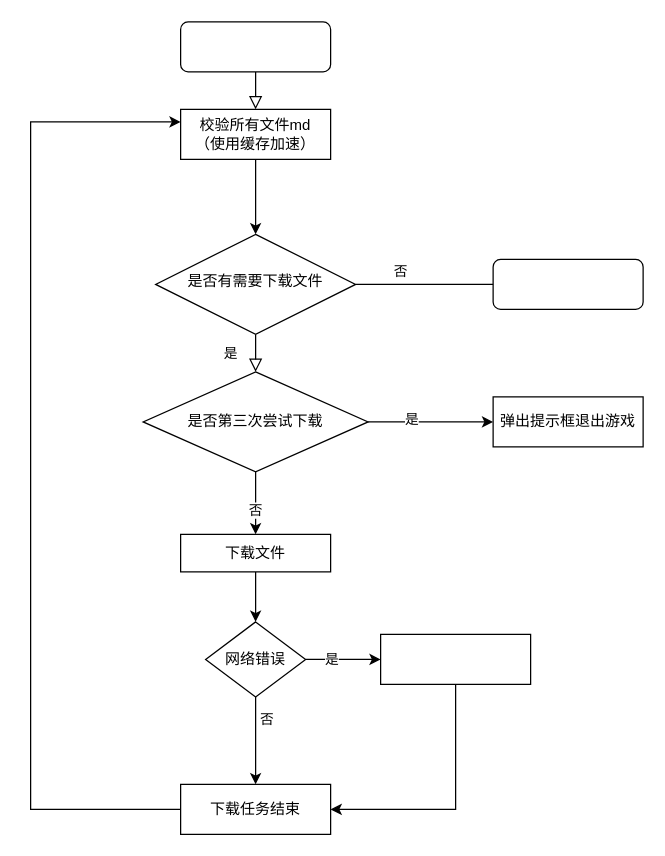
This 665x856 diagram has some shape labels left out. Each missing label, with the box of its shape:
跳过下载任务: (379, 633, 531, 684)
进入公告: (492, 258, 643, 309)
进入游戏: (179, 21, 331, 72)
